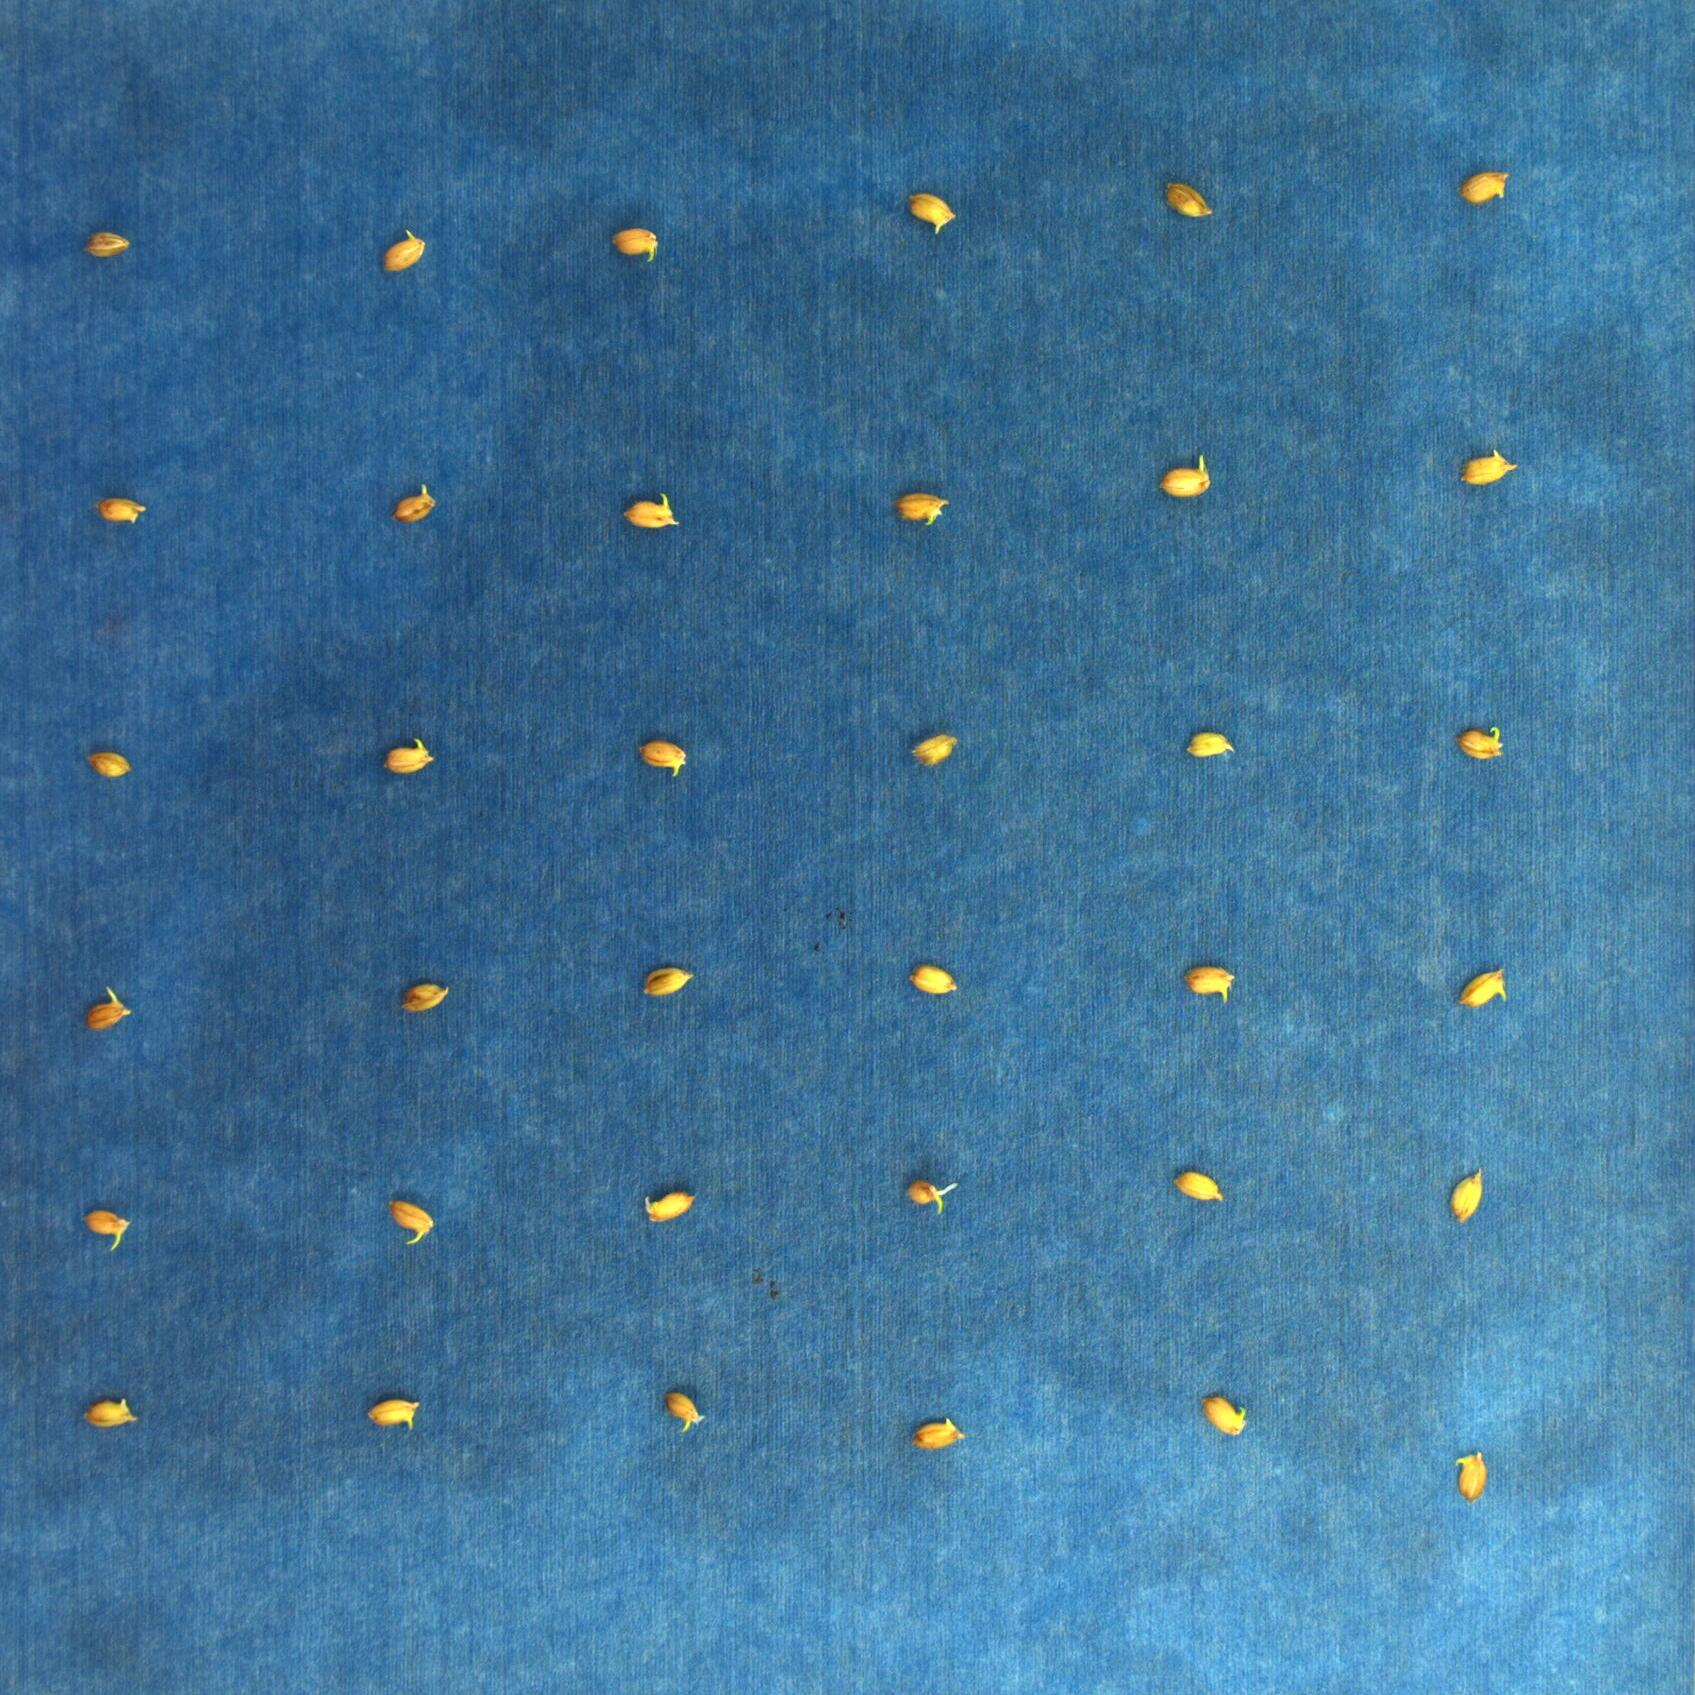not sprout: (900, 196, 958, 239), (1159, 453, 1211, 501), (71, 1395, 137, 1431), (388, 1194, 433, 1245), (622, 490, 681, 529), (1197, 1392, 1253, 1433), (896, 487, 948, 529), (1454, 972, 1510, 1010), (81, 990, 132, 1032), (1450, 1167, 1487, 1225), (1163, 183, 1215, 224), (635, 736, 685, 778), (640, 1184, 695, 1222), (362, 1395, 425, 1428), (1461, 447, 1521, 481), (908, 1416, 967, 1450), (905, 733, 961, 768), (1173, 1167, 1226, 1205), (380, 228, 424, 273), (1187, 961, 1232, 1004), (1453, 1450, 1489, 1504), (1459, 168, 1509, 206), (383, 733, 433, 771), (661, 1392, 706, 1433), (903, 962, 956, 997), (84, 225, 132, 262), (1459, 728, 1507, 764), (612, 227, 655, 265), (82, 747, 132, 779), (1184, 731, 1236, 761), (96, 494, 144, 525), (396, 484, 432, 525), (404, 984, 449, 1014), (640, 969, 697, 990)
sprout: (905, 1177, 961, 1215), (87, 1211, 126, 1251)
